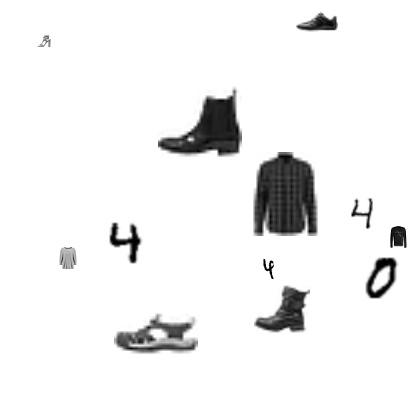0: (352, 248, 408, 304)
4: (98, 213, 154, 269), (341, 191, 383, 233), (255, 253, 283, 281)
Ankle_boot: (158, 78, 242, 162), (254, 280, 310, 336)
Pullover: (387, 226, 409, 248), (57, 247, 79, 269)
Sandal: (114, 290, 198, 374), (37, 34, 51, 48)
Shirt: (242, 152, 326, 236)
Sneaker: (296, 0, 338, 42)
